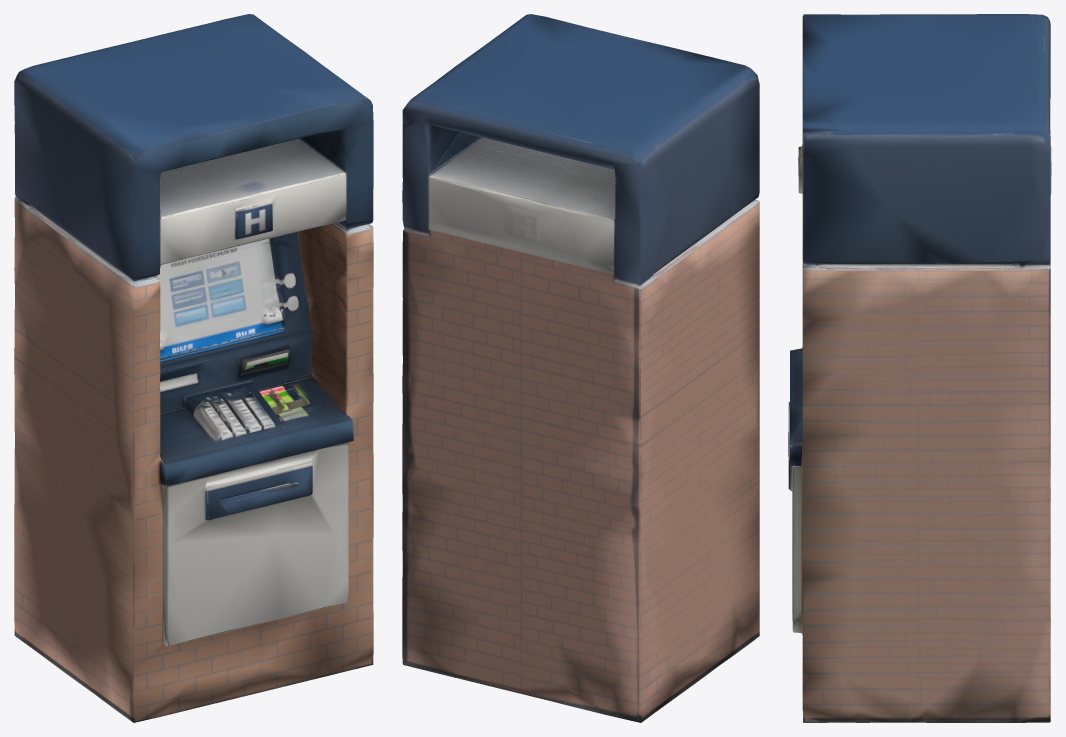
The model's file is Meshy_AI_ATM_Kiosk_Display_0107222601_texture.fbx.
The picture shows the model from 3 angles, left to right: view 1: azimuth 30°, elevation 25°; view 2: azimuth 150°, elevation 25°; view 3: azimuth 270°, elevation 25°; orthographic projection. The views are drawn at different scales.
Visible parts, largest first — view 1: Mesh_0; view 2: Mesh_0; view 3: Mesh_0.
Part boxes in pixels (left/top/right/bottom): Mesh_0: left=14, top=14, right=373, bottom=722; Mesh_0: left=402, top=14, right=759, bottom=722; Mesh_0: left=788, top=14, right=1051, bottom=722.
Bounding box in the file's own units: 83.1 × 191 × 75.99.
1 material, 1 textured.
